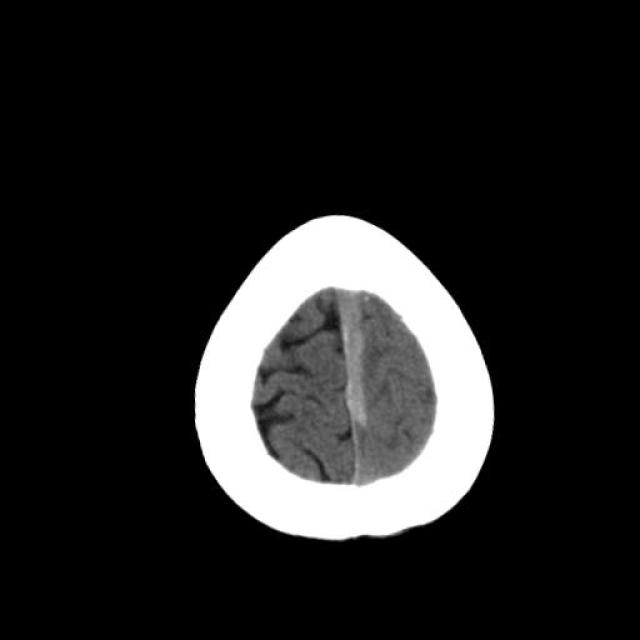Subdural: (310, 275, 410, 433)
